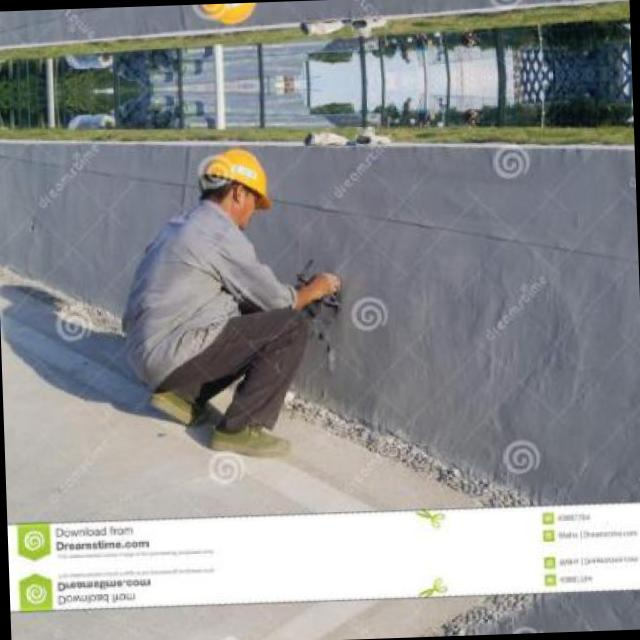helmet: (195, 142, 272, 233), (190, 2, 266, 30)
